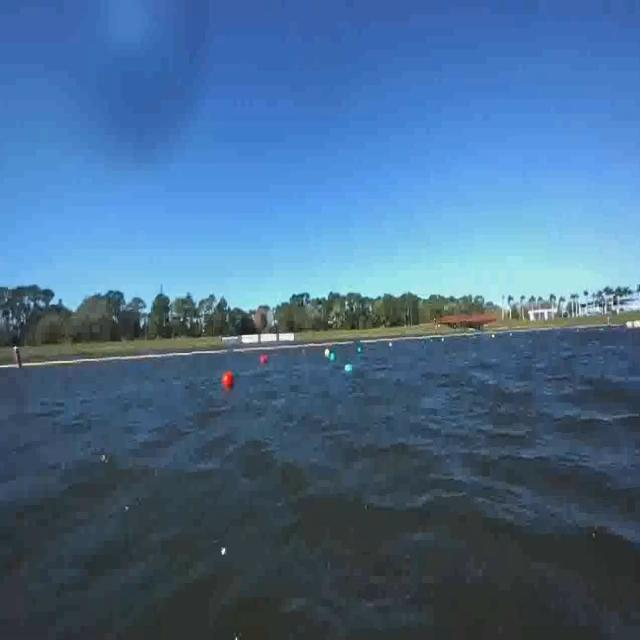green-buoy: (342, 362, 355, 378), (328, 351, 340, 366)
red-buoy: (223, 371, 233, 386), (263, 354, 270, 364)
